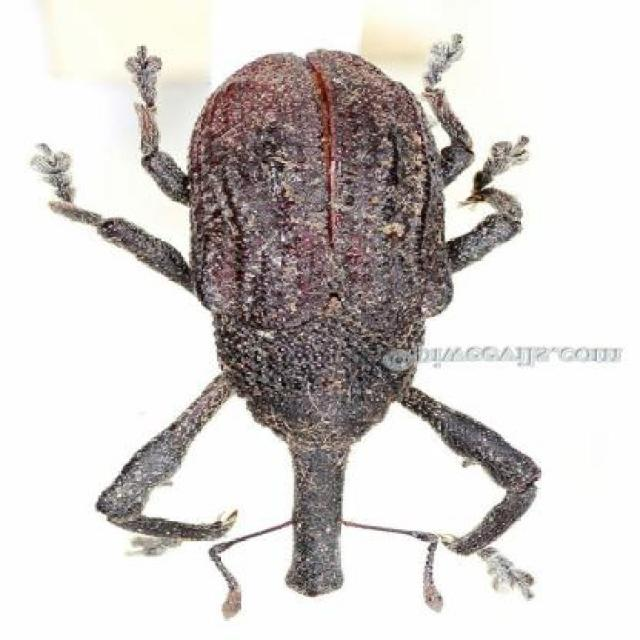rice-bug: (41, 31, 552, 618)
